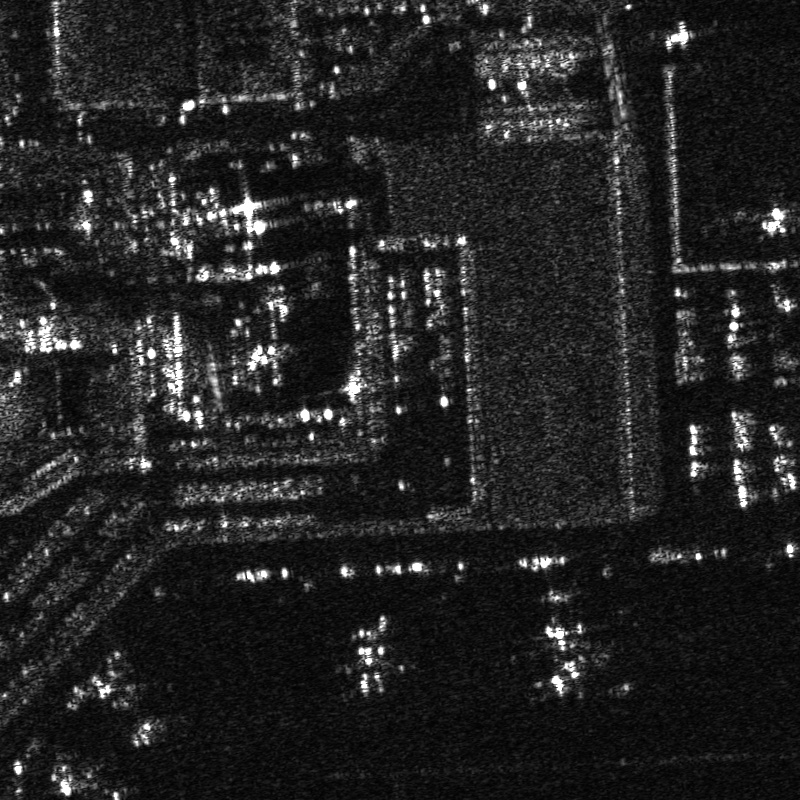A220: (87, 678, 178, 748), (53, 757, 139, 799)
Boeing737: (323, 609, 419, 703)
other: (507, 582, 626, 700)
